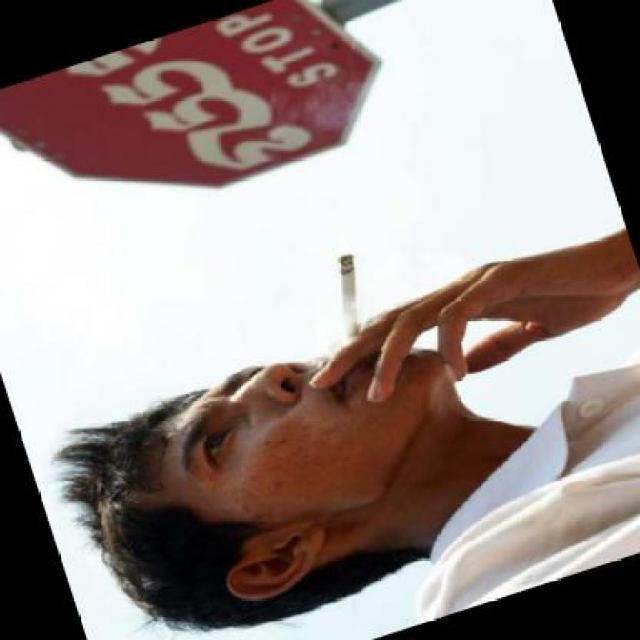smoke: (314, 248, 380, 344)
